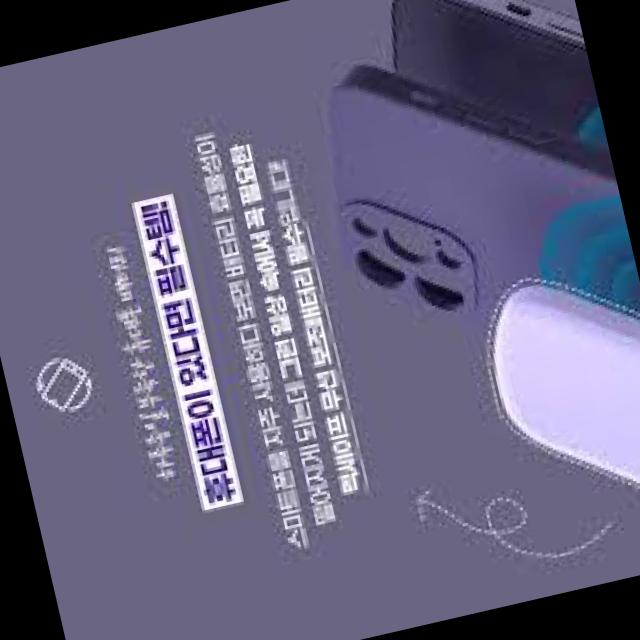portable-charger: (465, 254, 640, 539)
